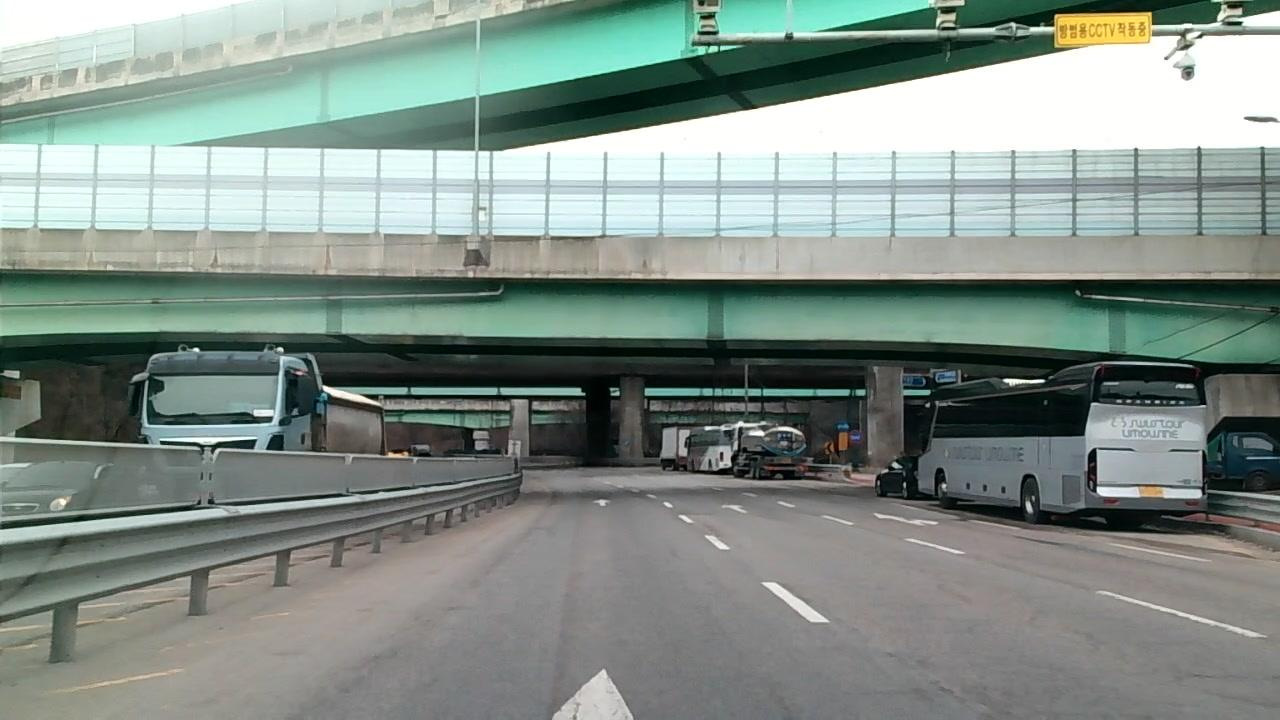hcrack: (1172, 670, 1223, 682)
vcrack: (917, 669, 957, 701)
